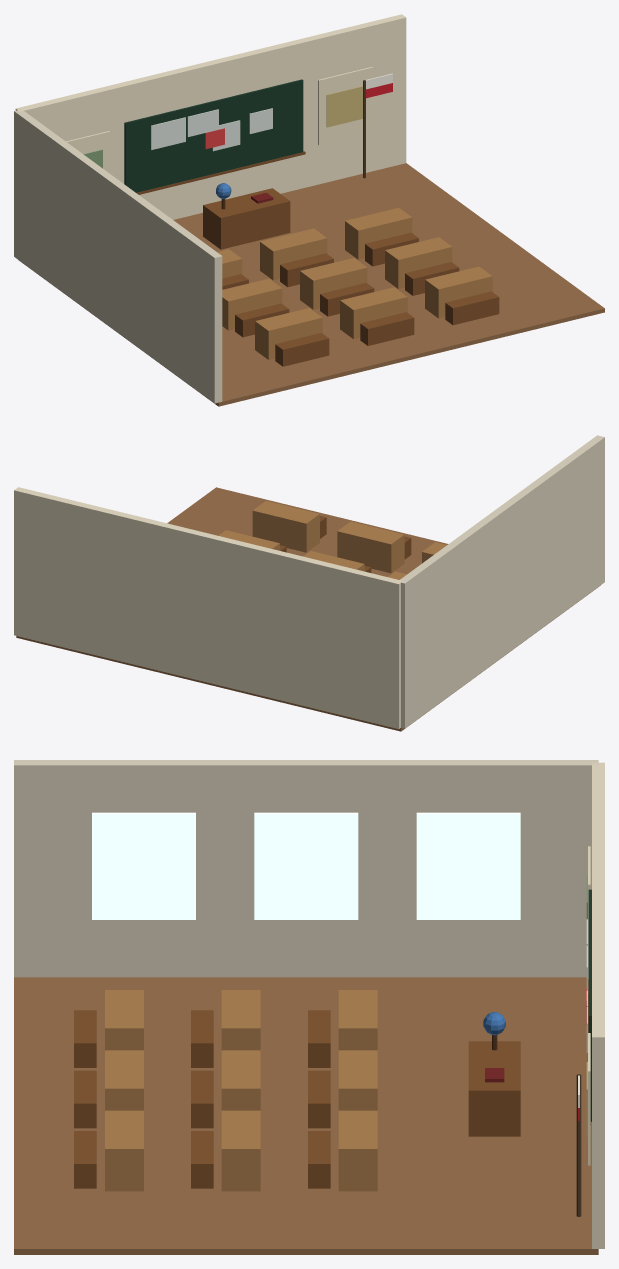
File: klasa.glb
3 renders of one model, top to bottom at view 1: azimuth 30°, elevation 25°; view 2: azimuth 150°, elevation 25°; view 3: azimuth 270°, elevation 25°, orthographic. The views are drawn at different scales.
Parts seen in each view (by area): view 1: klasa; view 2: klasa; view 3: klasa.
Boxes of the visible parts, left/top/right/bottom form: klasa: left=14, top=14, right=604, bottom=406; klasa: left=14, top=435, right=604, bottom=731; klasa: left=14, top=760, right=604, bottom=1254.
Bounding box in the file's own units: 10.1 × 3.7 × 9.1.
